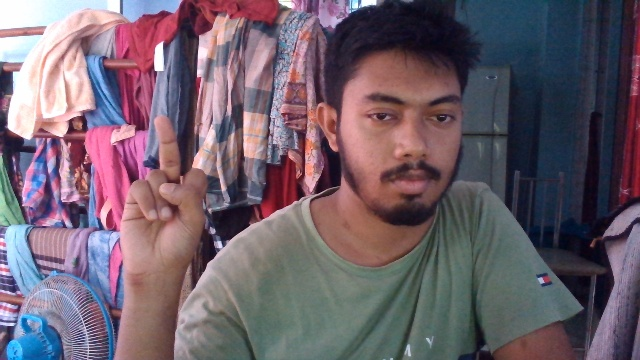fucku: (119, 114, 210, 279)
